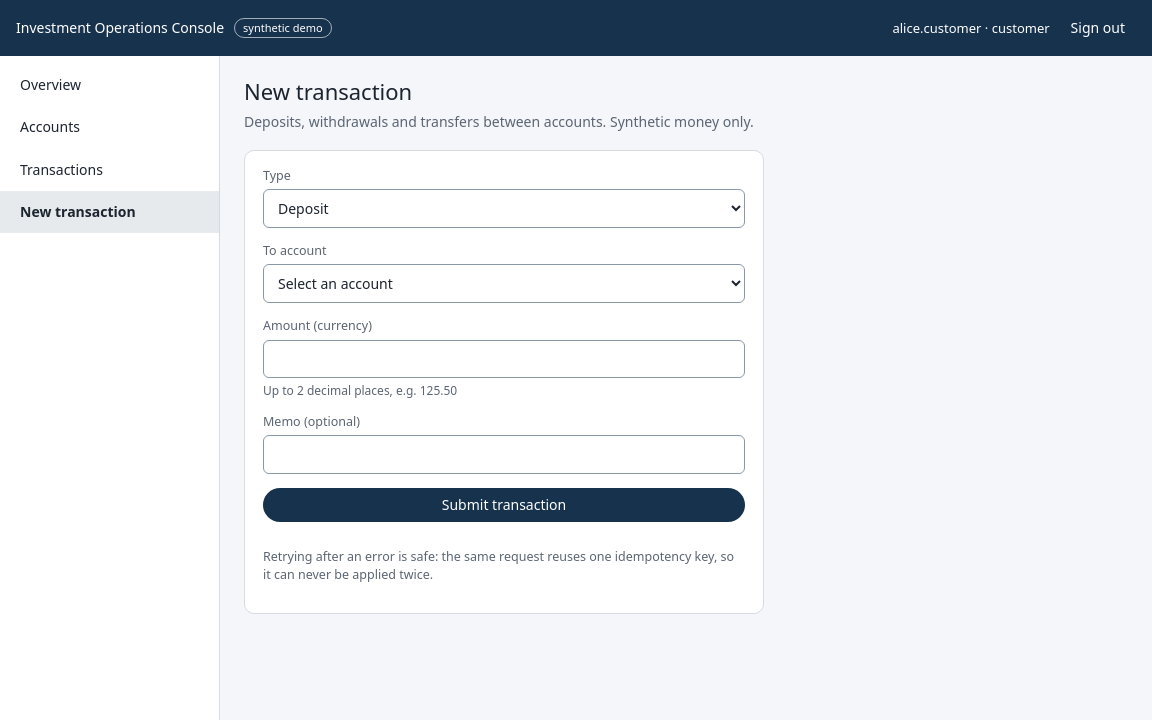
it: TransactionNew › flags a replayed submission
The width and height of the screenshot is (1152, 720).
Expected: the heading "New transaction" is shown, [244,76,412,106]
Select "ACC-1000000001 · USD" in the dropdown labelled "To account" at (504, 284), box [263,264,745,303]
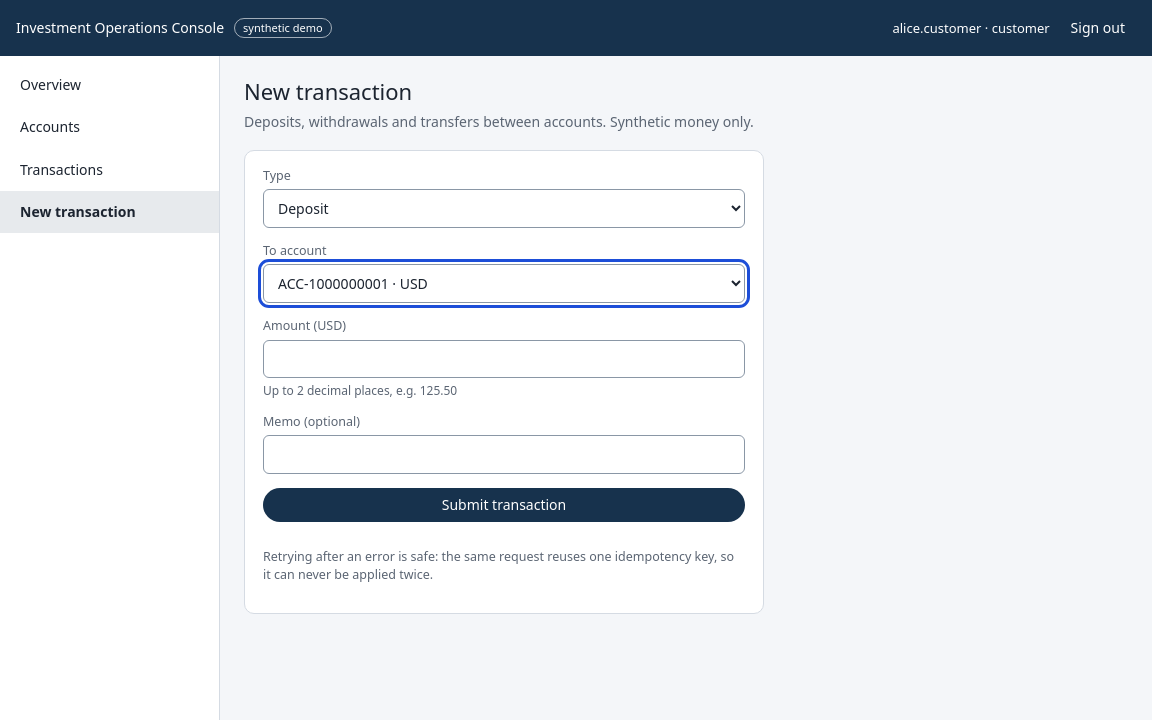
Type "25.00" into the field labelled "Amount (USD)".
click(504, 359); type("25.00")  # box [263,340,745,378]
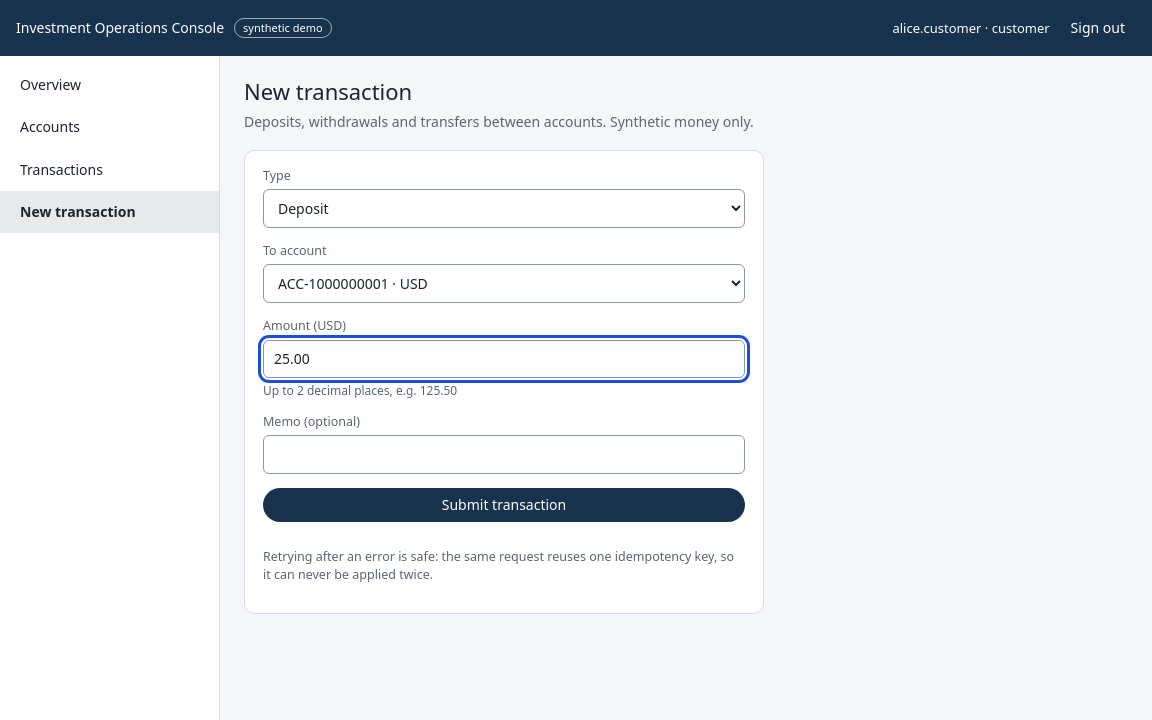
Click the button "Submit transaction".
click(504, 505)  # box [263,488,745,522]
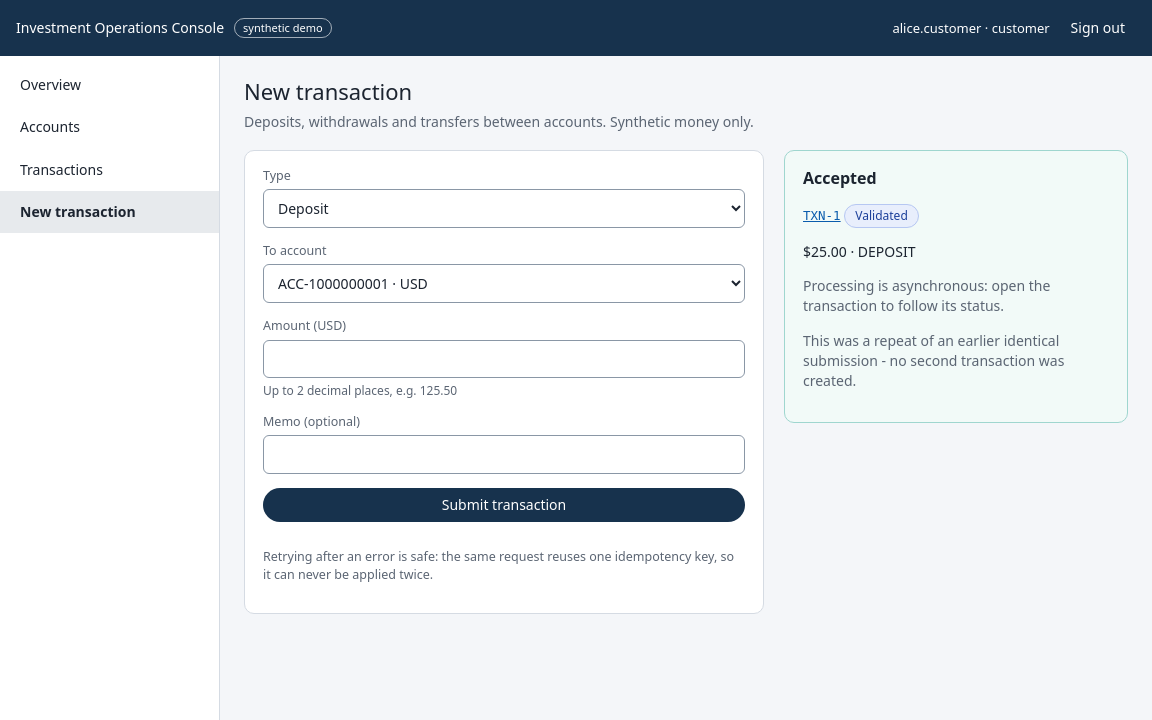
Result: the text "no second transaction was created" is shown at [803,331,1064,390]
